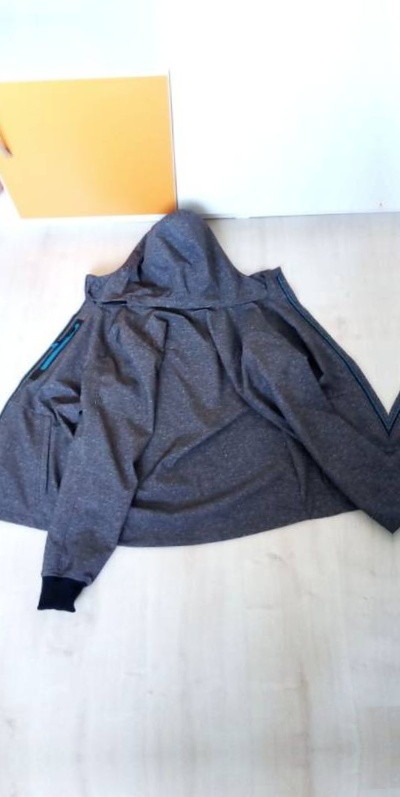Hoodie: (0, 172, 392, 641), (385, 158, 400, 626)
